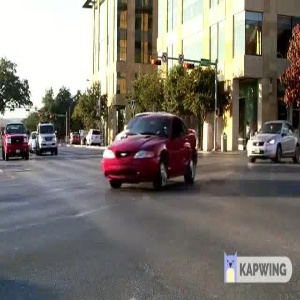car: (98, 116, 206, 186), (246, 115, 298, 163)
